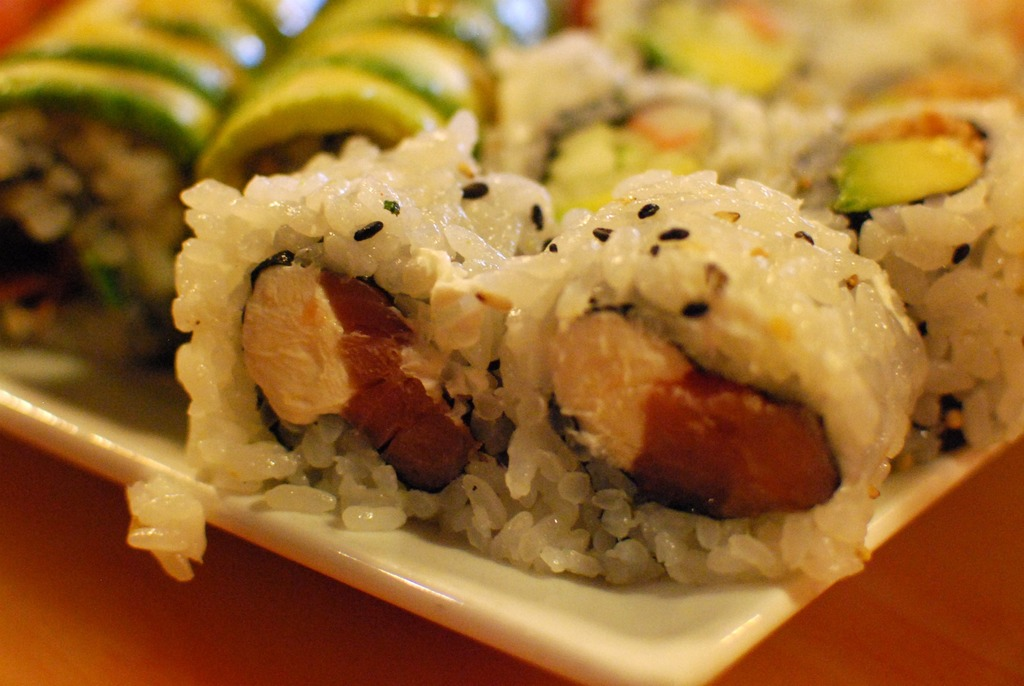sushi: (0, 0, 1023, 581), (126, 131, 557, 575)
